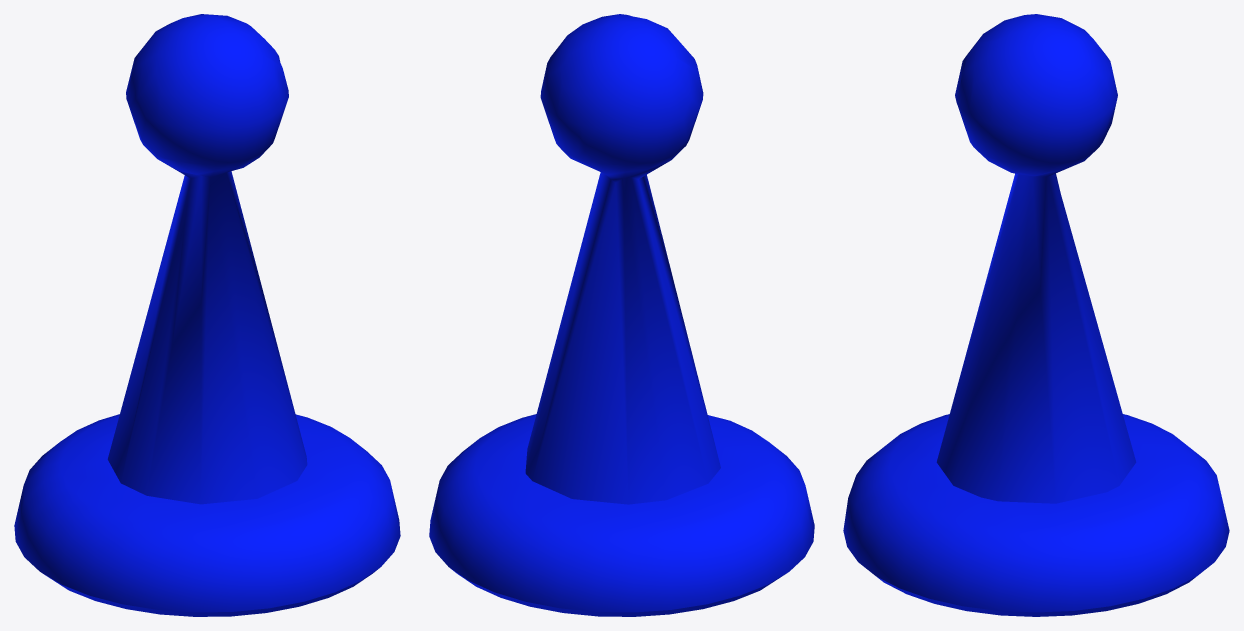
Rendered from FichaPlayer_Azul.glb.
3 views of the same model, side by side, from view 1: azimuth 30°, elevation 25°; view 2: azimuth 150°, elevation 25°; view 3: azimuth 270°, elevation 25° (orthographic).
Visible parts, largest first — view 1: prim0; view 2: prim0; view 3: prim0.
Part boxes in pixels (box(x1,y1,x2,y2)): prim0: box(14, 14, 400, 616); prim0: box(429, 14, 814, 616); prim0: box(843, 14, 1229, 616).
Bounding box in the file's own units: 1.72 × 2.55 × 1.72.
